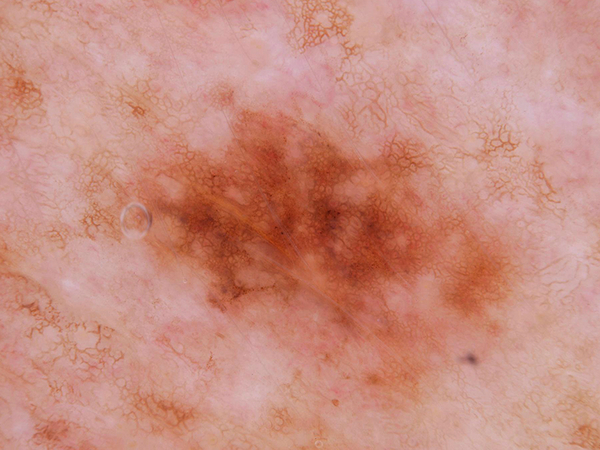Detected Lesion: (139, 100, 511, 347)
